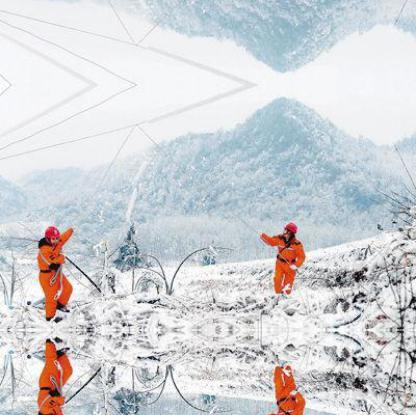helmet: (42, 226, 60, 243), (282, 219, 297, 237)
person: (33, 226, 83, 319), (262, 218, 311, 300), (33, 339, 84, 413), (261, 358, 311, 413)
